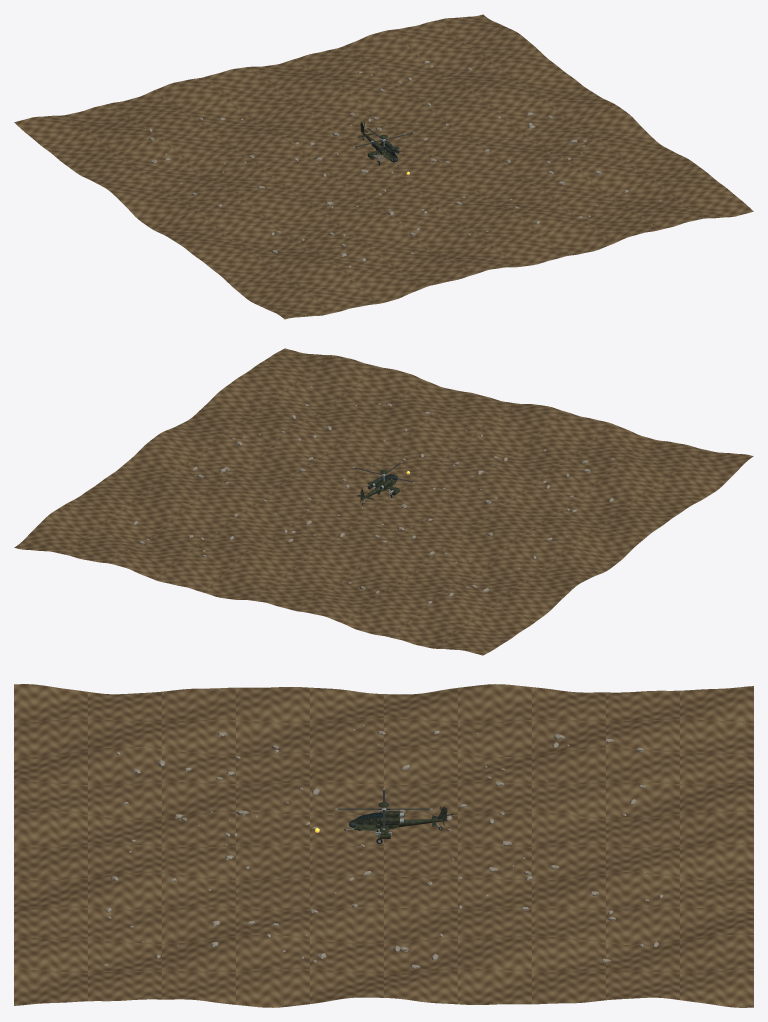
The model's file is apache_scene.glb.
The picture shows the model from 3 angles, top to bottom: view 1: azimuth 30°, elevation 25°; view 2: azimuth 150°, elevation 25°; view 3: azimuth 270°, elevation 25°; orthographic projection. The views are drawn at different scales.
Parts seen in each view (by area): view 1: 100m desert terrain; view 2: 100m desert terrain; view 3: 100m desert terrain.
Part boxes in pixels (x1,y1,x2,y2): 100m desert terrain: (14,14,753,319); 100m desert terrain: (14,348,753,655); 100m desert terrain: (14,684,753,1007).
Size of the model in its own units: 100 by 7.3 by 100.
9 materials, 2 textured.
